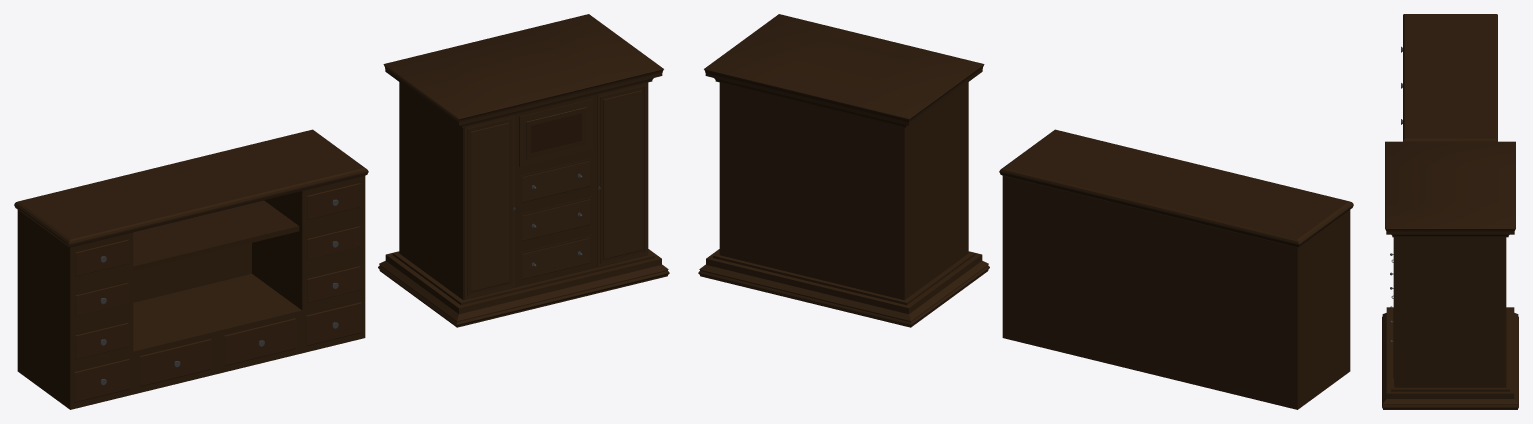
Rendered from Armario.fbx.
3 renders of one model, left to right at view 1: azimuth 30°, elevation 25°; view 2: azimuth 150°, elevation 25°; view 3: azimuth 270°, elevation 25°, orthographic. The views are drawn at different scales.
Visible parts, largest first — view 1: SM_ArmarioAparador, SM_Armario; view 2: SM_ArmarioAparador, SM_Armario; view 3: SM_Armario, SM_ArmarioAparador.
Part boxes in pixels (bbox=[...]): SM_ArmarioAparador: bbox=[14, 129, 368, 409]; SM_Armario: bbox=[378, 14, 669, 327]; SM_ArmarioAparador: bbox=[999, 129, 1353, 409]; SM_Armario: bbox=[698, 14, 989, 327]; SM_Armario: bbox=[1382, 141, 1518, 409]; SM_ArmarioAparador: bbox=[1401, 14, 1497, 141].
Size of the model in its own units: 319 by 107 by 73.77.
